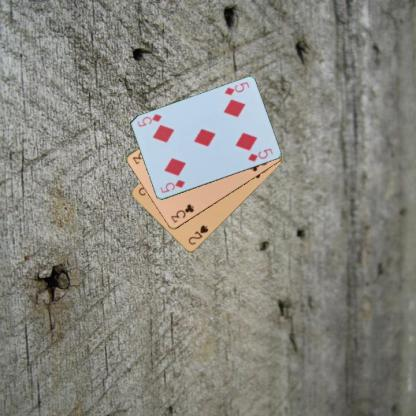2s: (185, 223, 210, 246)
3c: (168, 202, 195, 224)
5d: (157, 178, 186, 194), (222, 80, 250, 96)
